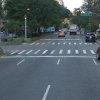Crosswalk: (13, 37, 92, 73)
